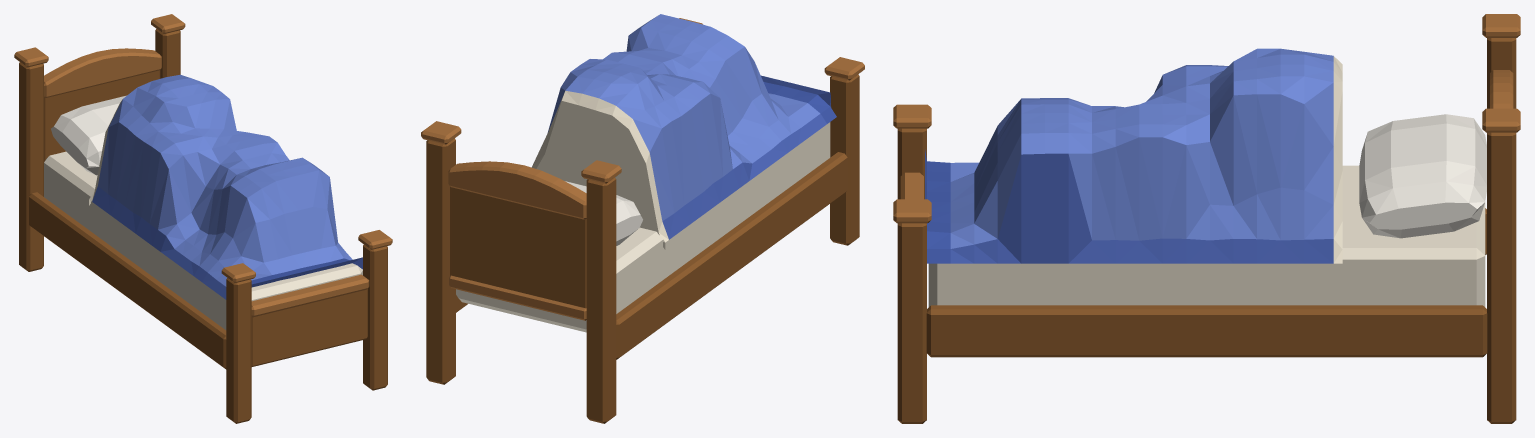
File: Prop_BedSleeper.fbx
3 views of the same model, side by side, from view 1: azimuth 30°, elevation 25°; view 2: azimuth 150°, elevation 25°; view 3: azimuth 270°, elevation 25° (orthographic). The views are drawn at different scales.
Parts seen in each view (by area): view 1: Prop_BedSleeper; view 2: Prop_BedSleeper; view 3: Prop_BedSleeper.
Part boxes in pixels (<box>): Prop_BedSleeper: <box>14,14,392,423</box>; Prop_BedSleeper: <box>421,14,864,423</box>; Prop_BedSleeper: <box>893,14,1520,423</box>.
Size of the model in its own units: 0.89 by 1.17 by 2.13.
